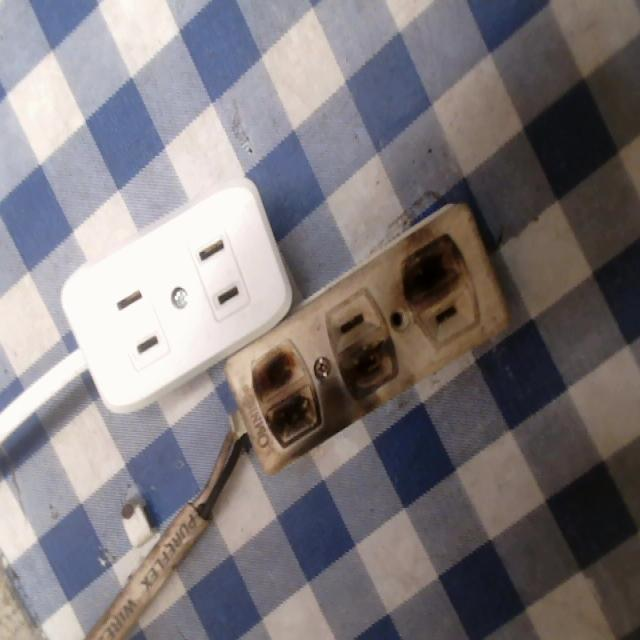-: (241, 341, 319, 447), (397, 228, 462, 304), (333, 331, 399, 405)
